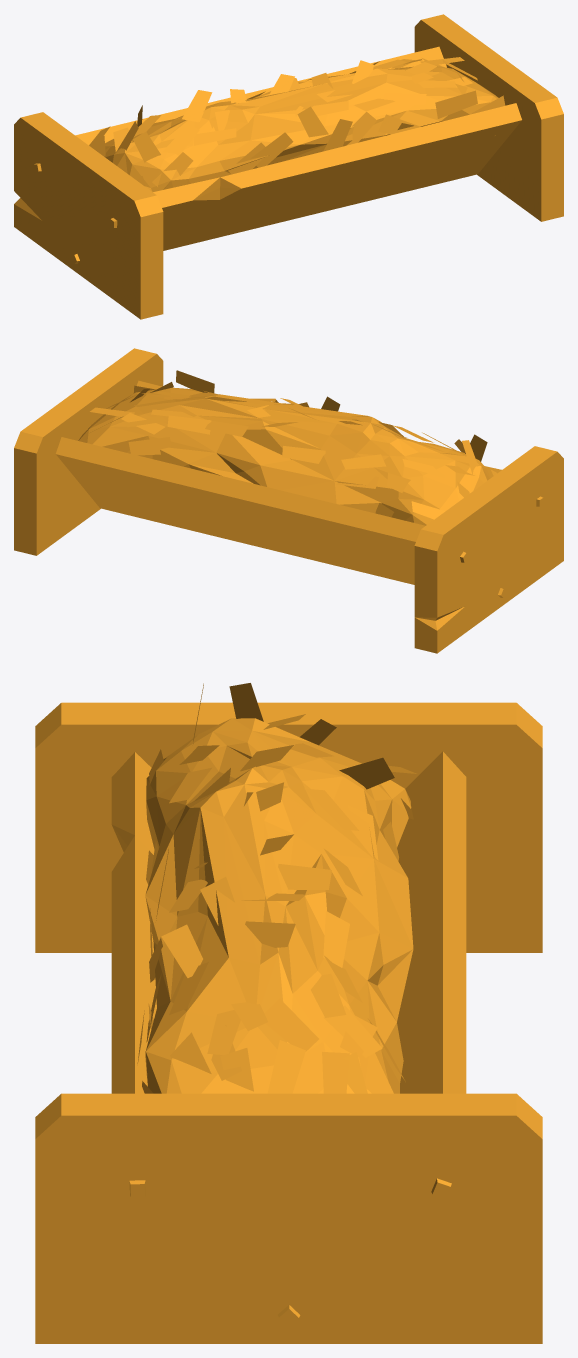
Rendered from SM_Trough_B_Full.fbx.
3 views of the same model, one above another, from view 1: azimuth 30°, elevation 25°; view 2: azimuth 150°, elevation 25°; view 3: azimuth 270°, elevation 25° (orthographic). The views are drawn at different scales.
Parts seen in each view (by area): view 1: trough-b-full; view 2: trough-b-full; view 3: trough-b-full.
Boxes of the visible parts, left/top/right/bottom form: trough-b-full: left=14, top=14, right=563, bottom=319; trough-b-full: left=14, top=348, right=563, bottom=653; trough-b-full: left=35, top=683, right=542, bottom=1343.
Size of the model in its own units: 1.3 by 0.4418 by 0.665.
